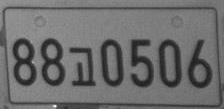0: (157, 38, 182, 87), (100, 38, 124, 87)
5: (130, 38, 155, 88)
6: (187, 39, 213, 88)
8: (40, 36, 66, 86), (11, 37, 37, 86)
고: (68, 46, 96, 86)
